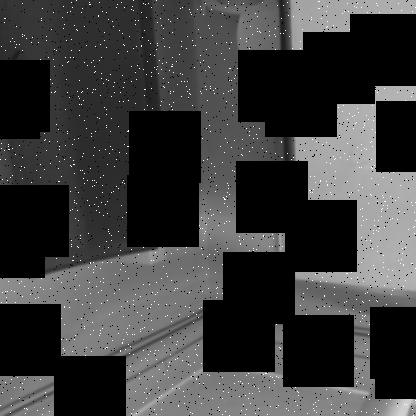Porte: (0, 1, 301, 280)
